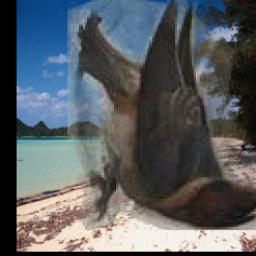Swallow: (67, 0, 256, 230)
